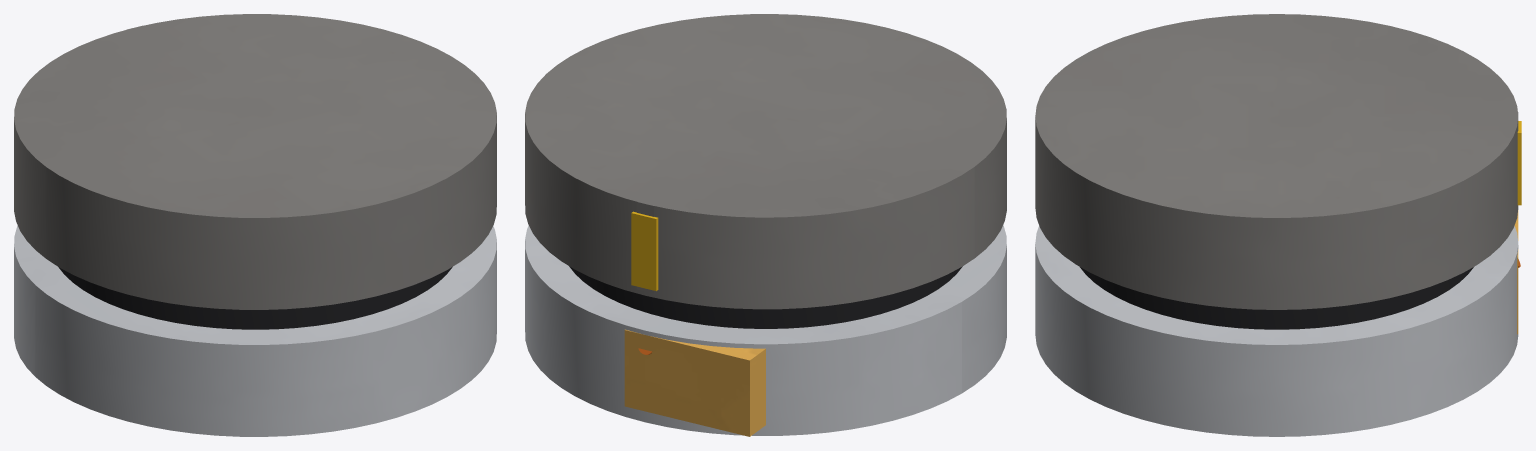
The model's file is robo01_rotor_xs_rot90.glb.
3 renders of one model, left to right at view 1: azimuth 30°, elevation 25°; view 2: azimuth 150°, elevation 25°; view 3: azimuth 270°, elevation 25°, orthographic.
Visible parts, largest first — view 1: half_b_rotor, base, bearing; view 2: half_b_rotor, base, drive, bearing, half_b_mark; view 3: half_b_rotor, base, bearing.
Boxes of the visible parts, x1=… form: half_b_rotor: x1=14, y1=14, x2=496, y2=309; base: x1=14, y1=225, x2=496, y2=436; bearing: x1=58, y1=267, x2=452, y2=329; half_b_rotor: x1=525, y1=14, x2=1006, y2=309; base: x1=525, y1=225, x2=1006, y2=435; drive: x1=624, y1=329, x2=765, y2=436; bearing: x1=569, y1=266, x2=962, y2=328; half_b_mark: x1=631, y1=211, x2=658, y2=291; half_b_rotor: x1=1035, y1=14, x2=1518, y2=309; base: x1=1035, y1=226, x2=1518, y2=436; bearing: x1=1080, y1=267, x2=1473, y2=329.
Size of the model in its own units: 0.3 by 0.15 by 0.302.
6 materials, 3 textured.
